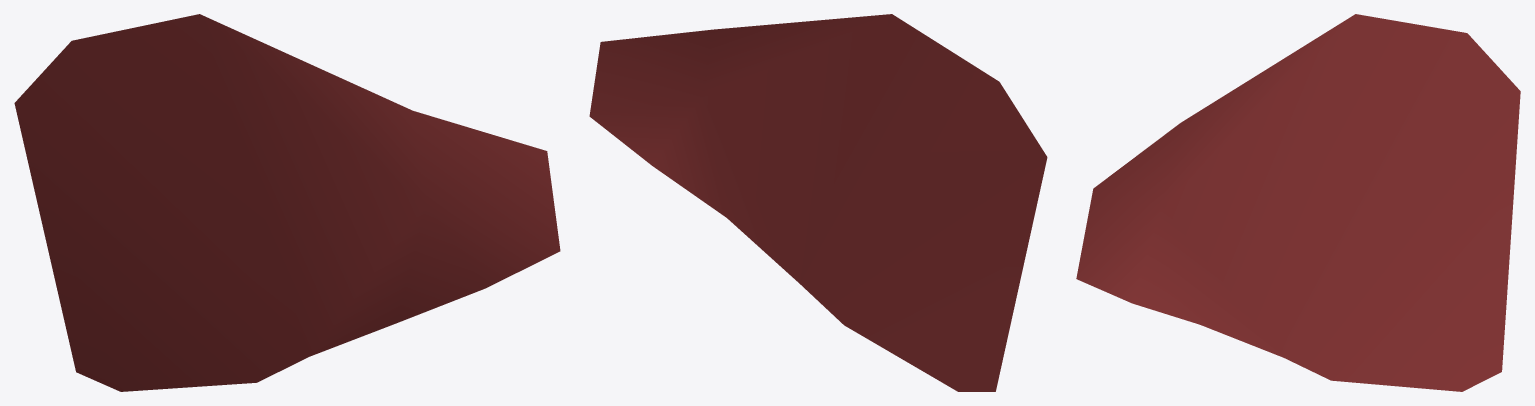
File: flexor-digiti-minimi-of-hand-ol.glb
3 renders of one model, left to right at view 1: azimuth 30°, elevation 25°; view 2: azimuth 210°, elevation 25°; view 3: azimuth 270°, elevation 25°, orthographic. The views are drawn at different scales.
Visible parts, largest first — view 1: Flexor digiti minimi of hand.ol; view 2: Flexor digiti minimi of hand.ol; view 3: Flexor digiti minimi of hand.ol.
Part boxes in pixels (box(x1,y1,x2,y2)): Flexor digiti minimi of hand.ol: box(14, 14, 560, 391); Flexor digiti minimi of hand.ol: box(589, 14, 1047, 391); Flexor digiti minimi of hand.ol: box(1076, 14, 1520, 391).
Size of the model in its own units: 0.00243 by 0.00312 by 0.00324.
